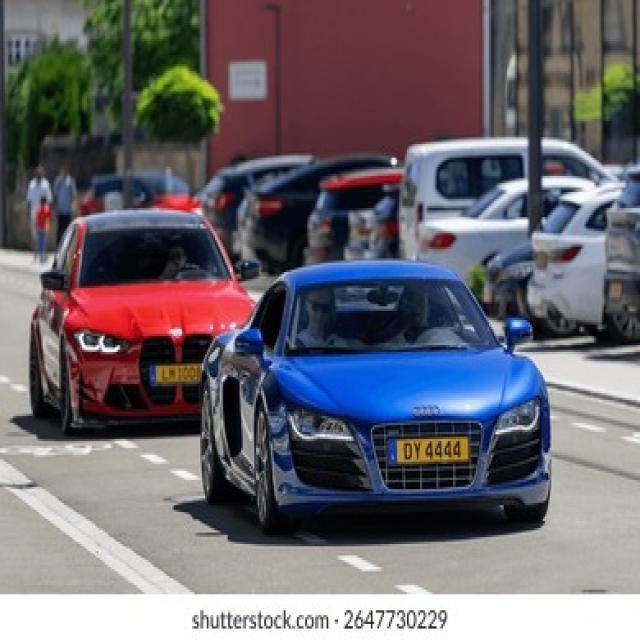audi: (402, 403, 444, 422)
